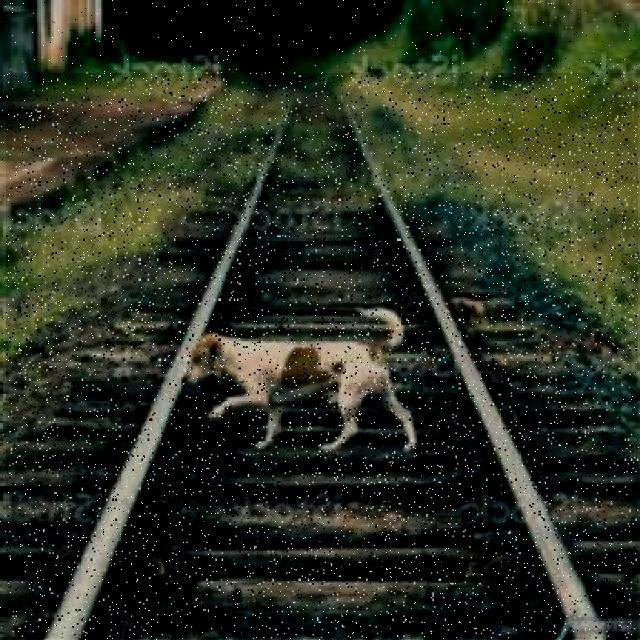rail: (8, 75, 639, 640)
